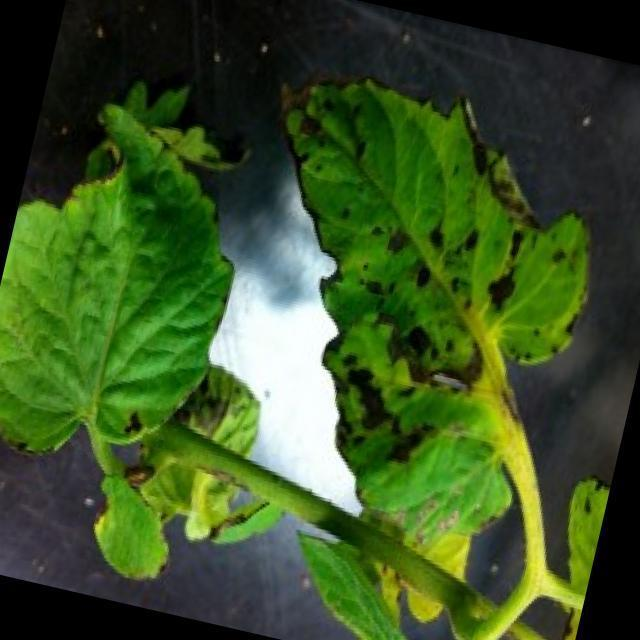Bacterial Spot: (224, 57, 611, 416), (280, 326, 538, 536)
